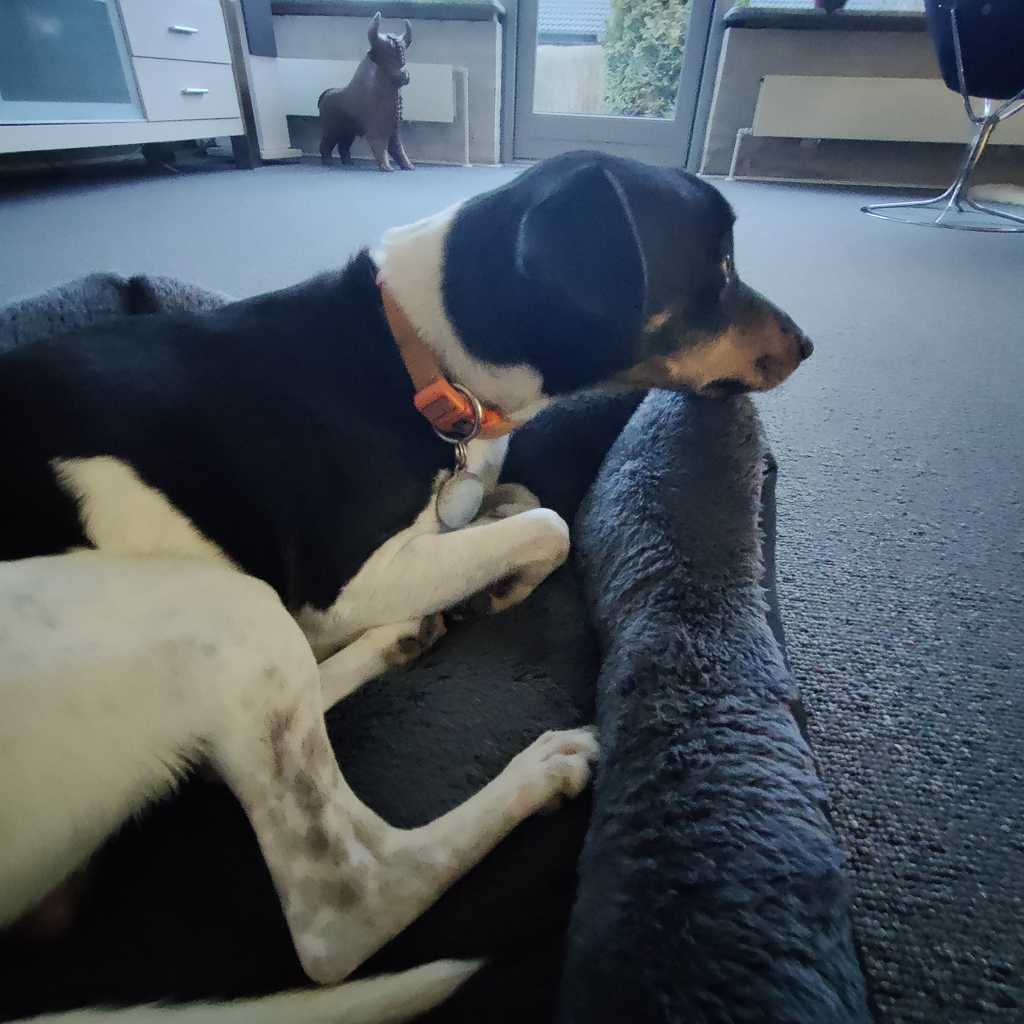Cattle: (309, 2, 427, 188)
Dog: (0, 142, 836, 1024)
